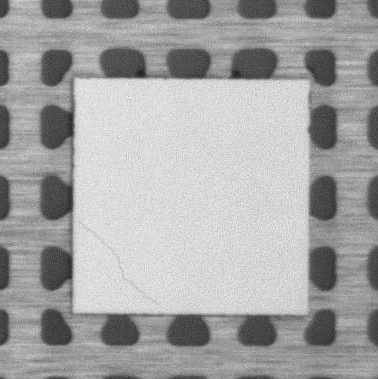DIE_CRACK: (80, 221, 167, 312)
